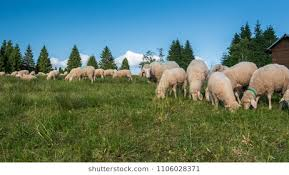sheep: (241, 63, 289, 106), (207, 71, 240, 115), (155, 67, 185, 100), (185, 59, 207, 100), (66, 65, 94, 83), (137, 59, 153, 80), (111, 67, 130, 81), (45, 68, 60, 82), (103, 68, 115, 79), (20, 72, 35, 80)
